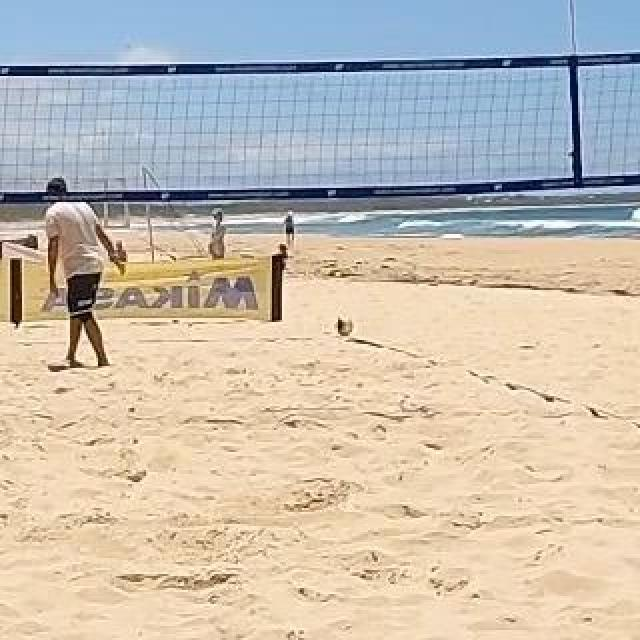volleyball: (334, 317, 354, 337)
